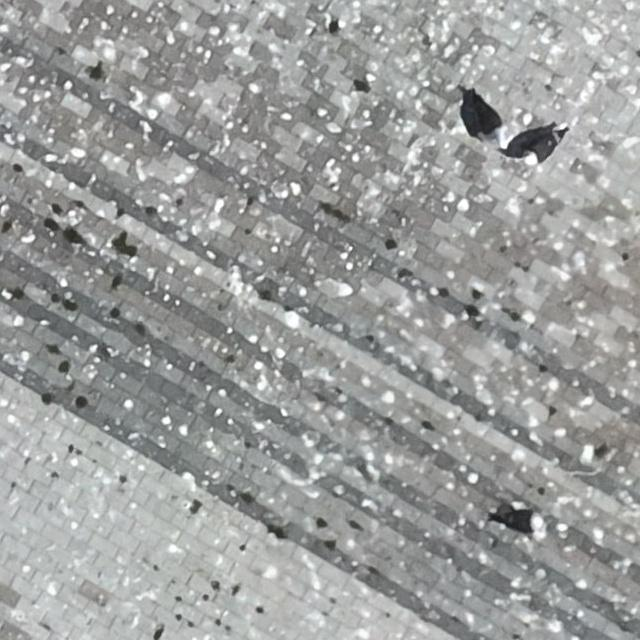umineko: (474, 96, 506, 148), (522, 135, 558, 163), (502, 510, 541, 531)
